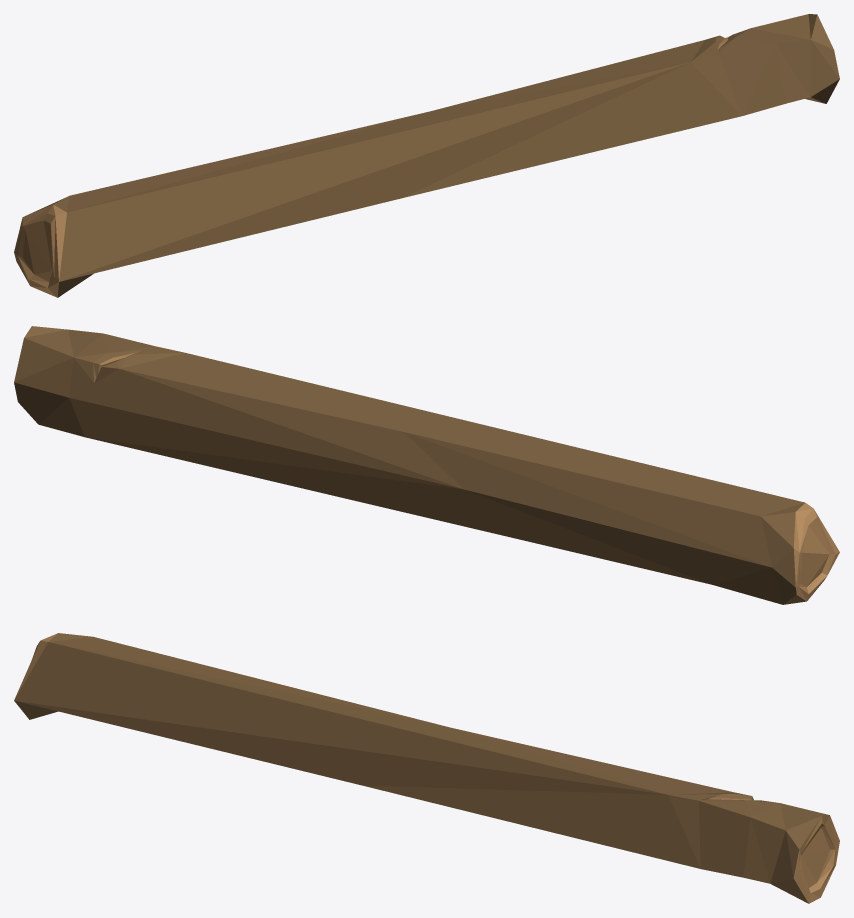
The model's file is SFV_Log_002.fbx.
The picture shows the model from 3 angles, top to bottom: view 1: azimuth 30°, elevation 25°; view 2: azimuth 150°, elevation 25°; view 3: azimuth 330°, elevation 25°; orthographic projection.
Visible parts, largest first — view 1: SFV_Log_002; view 2: SFV_Log_002; view 3: SFV_Log_002.
Part boxes in pixels (box(x1,y1,x2,y2)): SFV_Log_002: box(14, 14, 839, 297); SFV_Log_002: box(14, 326, 839, 604); SFV_Log_002: box(14, 633, 839, 903).
Size of the model in its own units: 214 by 21.97 by 22.55.
